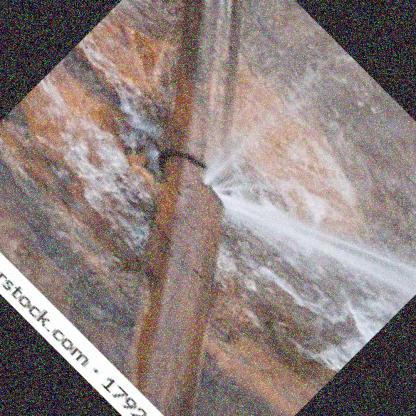burst: (190, 166, 254, 237)
